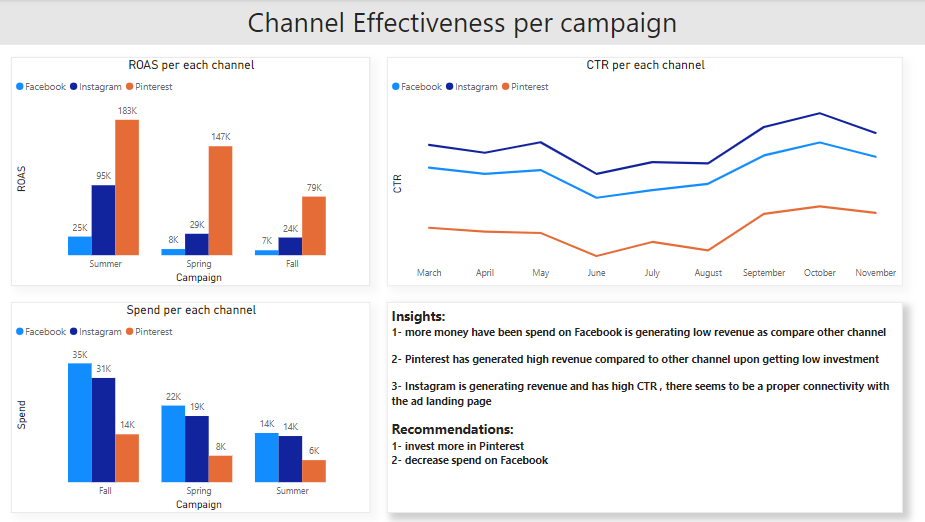

The page's visual inventory and layout, read from the dashboard file:
{"tool":"powerbi","page":{"name":"channel effectiveness","canvas":[1280,720],"ordinal":1},"visuals":[{"type":"textbox","box":[0,0,1280,63.2],"z":0},{"type":"clusteredColumnChart","title":"ROAS per each channel","fields":{"Y":["Sum(data.ROAS)"],"Category":["data.Campaign"],"Series":["data.Channel"]},"box":[19.2,79.7,493.6,314.8],"z":1000},{"type":"clusteredColumnChart","title":"Spend per each channel","fields":{"Y":["data.total spend"],"Category":["data.Campaign"],"Series":["data.Channel"]},"box":[19.2,416.6,493.6,290.1],"z":2000},{"type":"lineChart","title":"CTR per each channel","fields":{"Category":["data.Date.Variation.Date Hierarchy.Month"],"Y":["Sum(data.CTR)"],"Series":["data.Channel"]},"box":[536.2,79.7,709.4,314.8],"z":3000},{"type":"textbox","box":[536,417,709,290],"z":4000}]}

Visuals, with their boxes in screenshot pixels (x1, y1, x2, y2), scaled from the page's 1280x720 canvas onto the 925x522 screenshot:
textbox: BBox(0, 0, 924, 46)
"ROAS per each channel" clusteredColumnChart: BBox(14, 58, 371, 286)
"Spend per each channel" clusteredColumnChart: BBox(14, 302, 371, 512)
"CTR per each channel" lineChart: BBox(387, 58, 900, 286)
textbox: BBox(387, 302, 900, 513)
